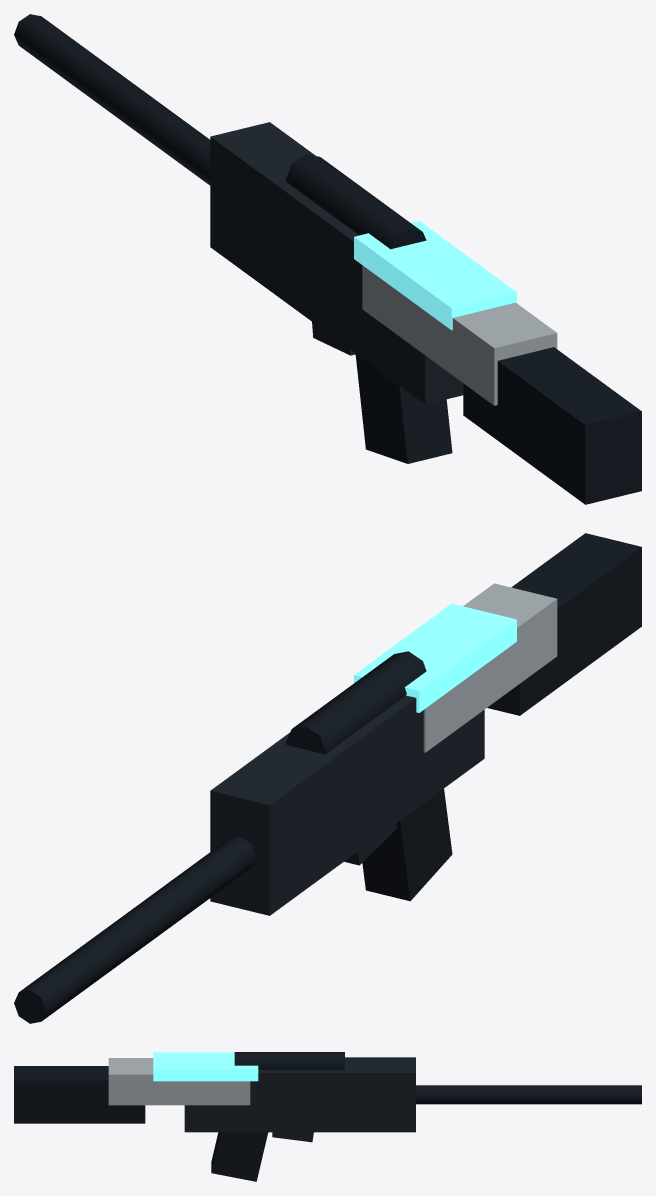
Rendered from np_z05_precision_ameliore.glb.
The picture shows the model from 3 angles, top to bottom: view 1: azimuth 30°, elevation 25°; view 2: azimuth 150°, elevation 25°; view 3: azimuth 270°, elevation 25°; orthographic projection. The views are drawn at different scales.
Visible parts, largest first — view 1: Corps, Crosse, Culasse, Canon, ModuleAmeliore, Poignee, Lunette; view 2: Corps, Crosse, Canon, Culasse, ModuleAmeliore, Poignee, Lunette; view 3: Corps, Crosse, Culasse, Canon, ModuleAmeliore, Poignee, Lunette, Chargeur.
Part boxes in pixels (x1,y1,x2,y2): Corps: [210, 122, 463, 404]; Crosse: [463, 347, 641, 504]; Culasse: [362, 265, 557, 405]; Canon: [14, 14, 210, 185]; ModuleAmeliore: [354, 221, 516, 330]; Poignee: [355, 354, 452, 463]; Lunette: [286, 154, 426, 249]; Corps: [210, 695, 484, 915]; Crosse: [487, 533, 641, 715]; Canon: [14, 836, 255, 1023]; Culasse: [423, 583, 557, 752]; ModuleAmeliore: [354, 603, 516, 712]; Poignee: [362, 788, 452, 901]; Lunette: [286, 651, 426, 754]; Corps: [184, 1057, 415, 1132]; Crosse: [14, 1066, 145, 1123]; Culasse: [108, 1058, 250, 1105]; Canon: [416, 1085, 641, 1104]; ModuleAmeliore: [153, 1052, 258, 1081]; Poignee: [211, 1132, 268, 1181]; Lunette: [234, 1052, 344, 1069]; Chargeur: [272, 1132, 313, 1142].
Bounding box in the file's own units: 0.099 × 0.3321 × 1.53.
